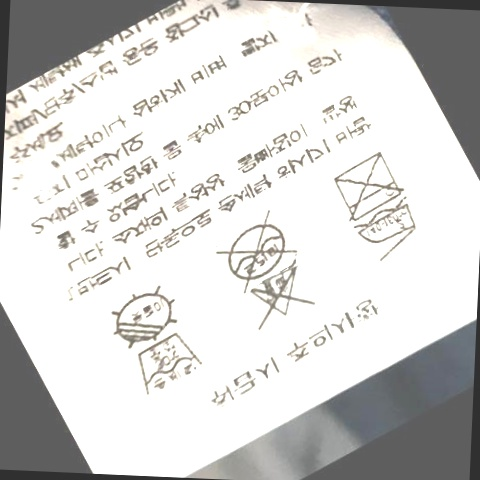DN_dry_clean: (216, 215, 289, 281)
DN_wash: (325, 155, 402, 212)
hand_wash: (130, 337, 203, 399)
iron_medium: (353, 205, 422, 258)
line_dry_in_shade: (103, 282, 179, 349)
non_chlorine_bleach: (239, 269, 308, 326)
